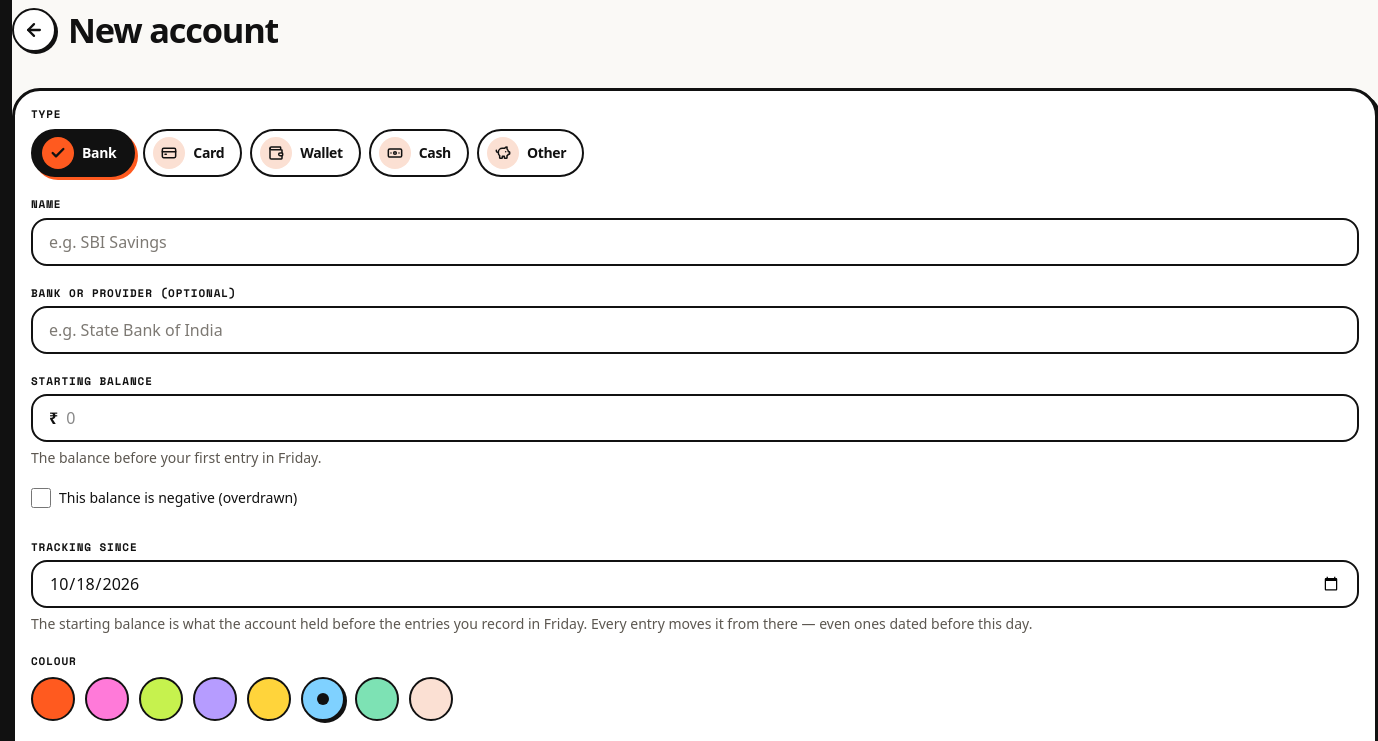
Test: Account form › defaults a wallet to its own colour and explains the opening balance
Click the 1st radio button labelled "Wallet".
click(306, 153)  # box [250, 129, 361, 177]
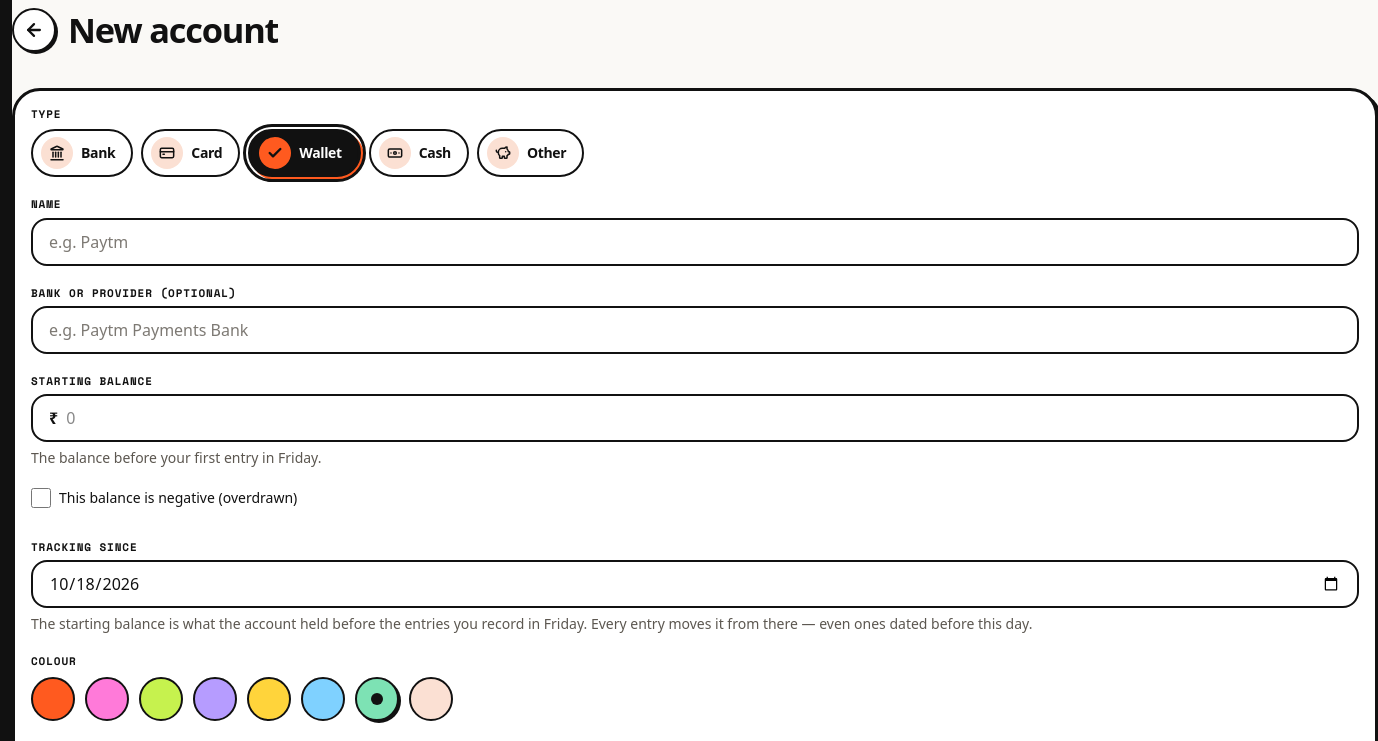
Expected: the text "Every entry moves it from there — even ones dated before this day" is shown, [31, 614, 1032, 634]
Now the radio button named "Mint" is checked, box [355, 677, 399, 721]
